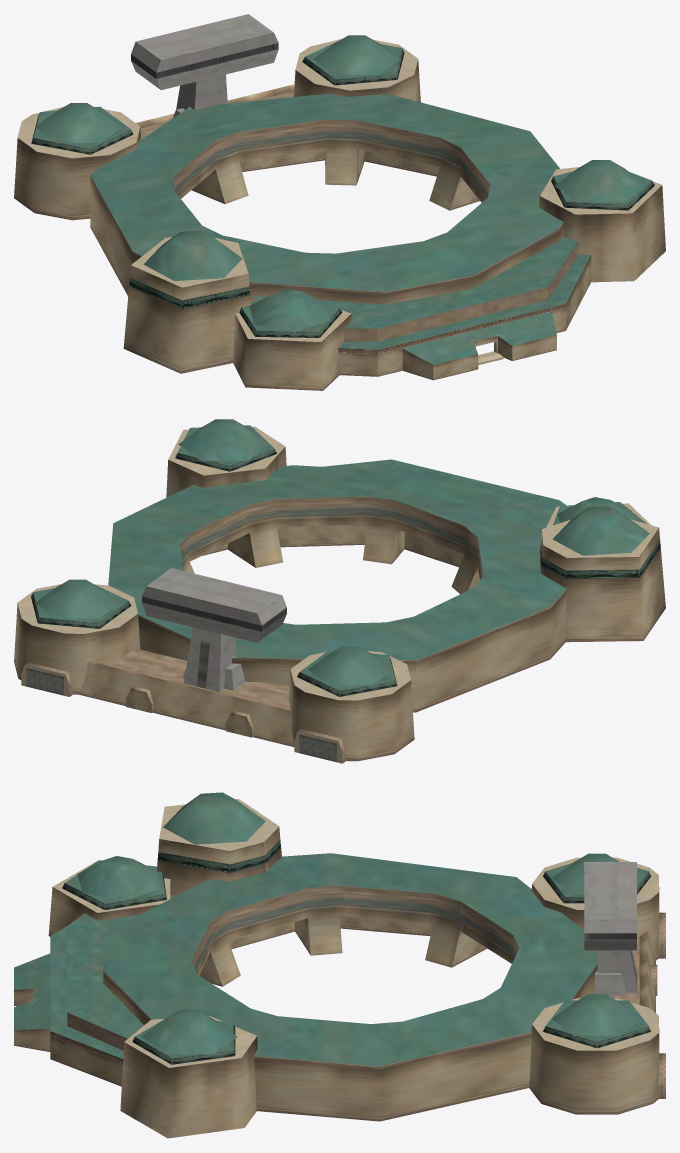
Rendered from mun_nboo_starport_s01_u01_r0_mesh_l4.fbx.
The picture shows the model from 3 angles, top to bottom: view 1: azimuth 30°, elevation 25°; view 2: azimuth 150°, elevation 25°; view 3: azimuth 270°, elevation 25°; orthographic projection. The views are drawn at different scales.
Parts seen in each view (by area): view 1: mesh_node; view 2: mesh_node; view 3: mesh_node.
Boxes of the visible parts, x1,y1,x2,y2 form: mesh_node: [14, 14, 665, 390]; mesh_node: [14, 419, 665, 763]; mesh_node: [14, 792, 665, 1138].
Size of the model in its own units: 149 by 33.66 by 160.
Materials: 1 (1 with a texture image).
